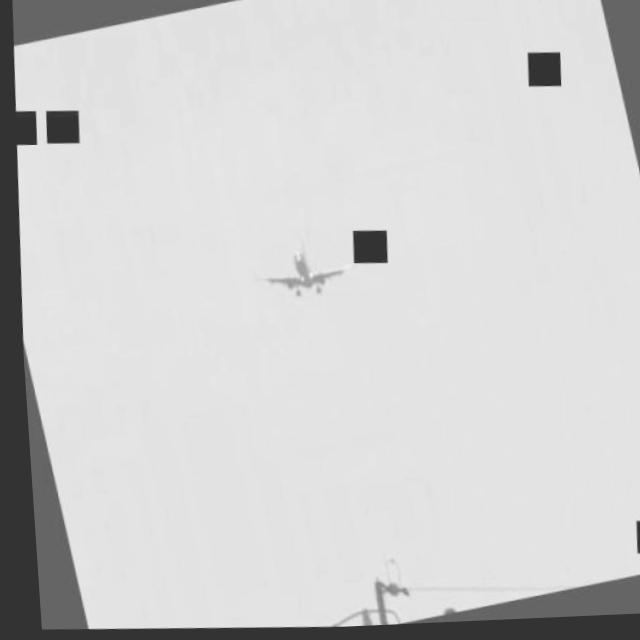aeroplane: (258, 246, 338, 303)
